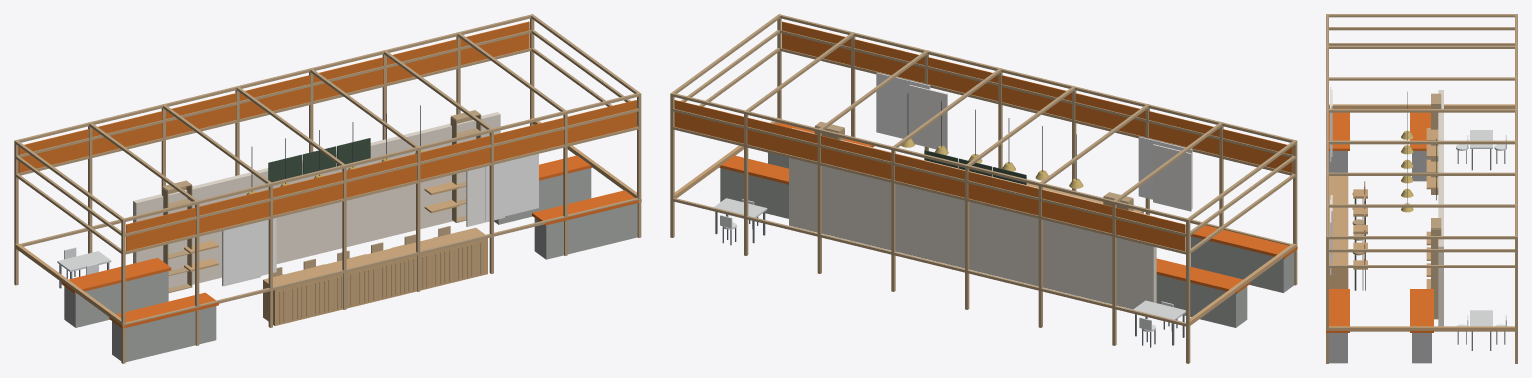
The picture shows the model from 3 angles, left to right: view 1: azimuth 30°, elevation 25°; view 2: azimuth 150°, elevation 25°; view 3: azimuth 270°, elevation 25°; orthographic projection. The views are drawn at different scales.
Visible parts, largest first — view 1: fixtures (×7), graphic (×3), overhead, frame; view 2: fixtures (×8), graphic (×3), overhead, frame; view 3: fixtures (×10), overhead, frame, graphic.
Boxes of the visible parts, bbox=[...] form: fixtures (×7): bbox=[14, 110, 641, 362]; graphic (×3): bbox=[18, 21, 636, 284]; overhead: bbox=[15, 15, 639, 254]; frame: bbox=[14, 14, 641, 363]; fixtures (×8): bbox=[673, 85, 1297, 327]; graphic (×3): bbox=[674, 21, 1292, 251]; overhead: bbox=[672, 15, 1296, 254]; frame: bbox=[670, 14, 1297, 363]; fixtures (×10): bbox=[1326, 90, 1516, 363]; overhead: bbox=[1326, 14, 1517, 267]; frame: bbox=[1326, 14, 1517, 363]; graphic: bbox=[1330, 86, 1331, 274].
Size of the model in its own units: 15.1 by 4 by 5.48.
